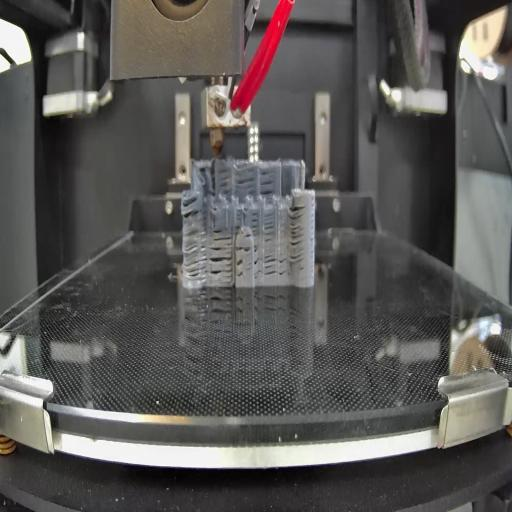cracks: (180, 231, 206, 279), (289, 204, 306, 273), (209, 246, 233, 282), (236, 168, 257, 198), (180, 196, 204, 221), (259, 167, 277, 196), (265, 254, 288, 276), (212, 222, 231, 244), (219, 167, 233, 196), (265, 212, 276, 244), (234, 207, 244, 231), (237, 244, 259, 254), (252, 210, 261, 231), (254, 258, 262, 279), (237, 256, 243, 278), (242, 231, 252, 242), (200, 167, 209, 174)
